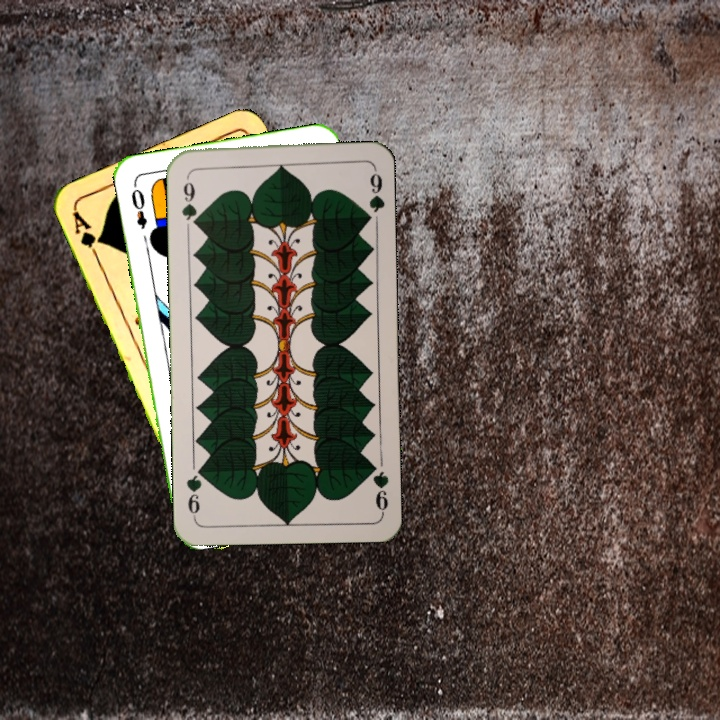EO: (127, 180, 150, 231)
G9: (365, 457, 391, 516), (178, 170, 201, 229)
GA: (68, 206, 106, 262)
